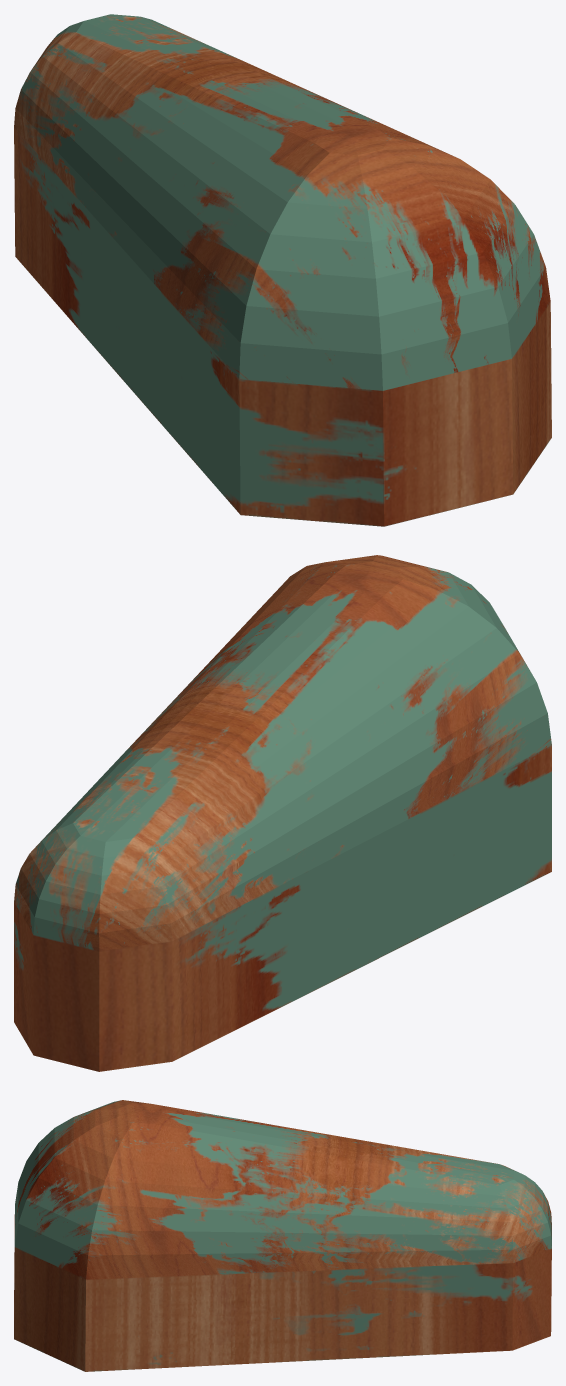
The model's file is Idek_Ready.fbx.
The picture shows the model from 3 angles, top to bottom: view 1: azimuth 30°, elevation 25°; view 2: azimuth 150°, elevation 25°; view 3: azimuth 270°, elevation 25°; orthographic projection. The views are drawn at different scales.
Visible parts, largest first — view 1: idek; view 2: idek; view 3: idek.
Boxes of the visible parts, <box> form: idek: <box>14,14,551,526</box>; idek: <box>14,555,551,1071</box>; idek: <box>14,1100,551,1371</box>.
Bounding box in the file's own units: 185 × 176 × 408.
